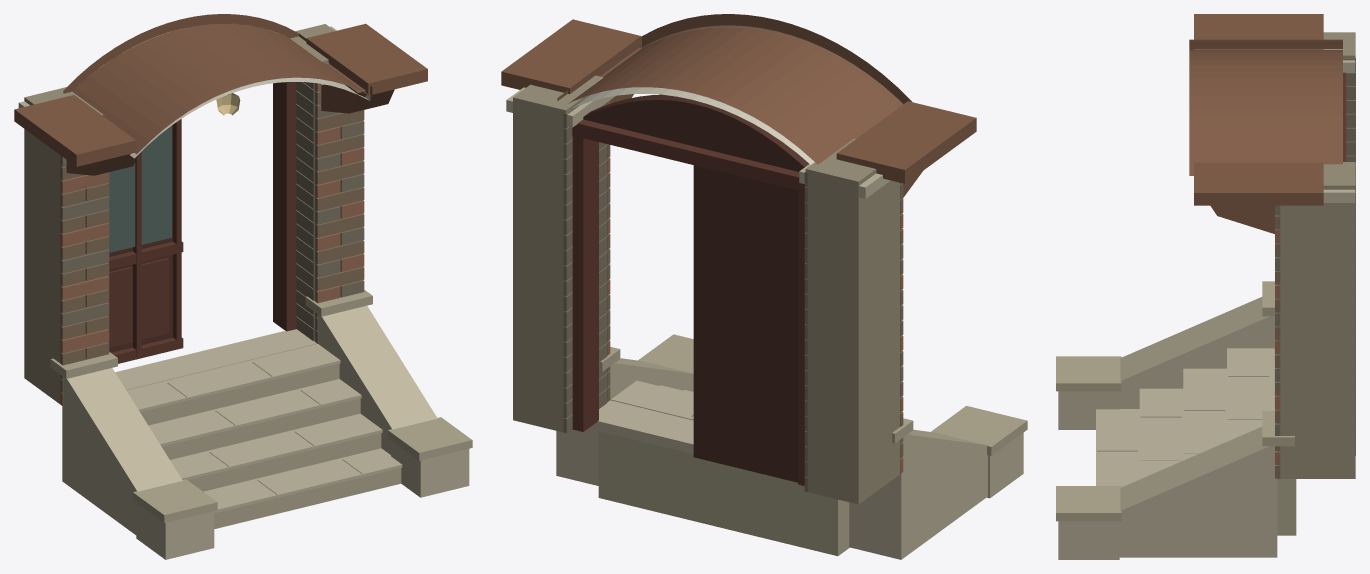
File: jingan-theatre-academy-yuxiu-stone-porch-lod.glb
The picture shows the model from 3 angles, left to right: view 1: azimuth 30°, elevation 25°; view 2: azimuth 150°, elevation 25°; view 3: azimuth 270°, elevation 25°; orthographic projection. The views are drawn at different scales.
Parts seen in each view (by area): view 1: 上海戏剧学院毓琇楼弧形门罩与夹墙石阶; view 2: 上海戏剧学院毓琇楼弧形门罩与夹墙石阶; view 3: 上海戏剧学院毓琇楼弧形门罩与夹墙石阶.
Part boxes in pixels (x1,y1,x2,y2): 上海戏剧学院毓琇楼弧形门罩与夹墙石阶: (14, 14, 472, 559); 上海戏剧学院毓琇楼弧形门罩与夹墙石阶: (501, 14, 1027, 559); 上海戏剧学院毓琇楼弧形门罩与夹墙石阶: (1056, 14, 1355, 559).
Bounding box in the file's own units: 3.1 × 3.41 × 2.19.
